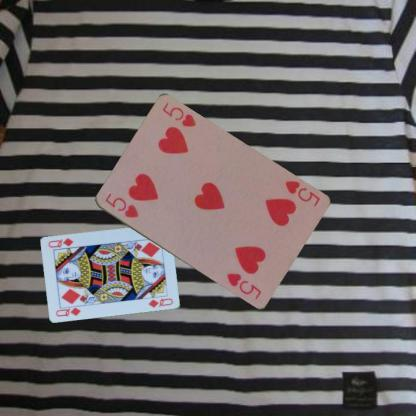5h: (282, 178, 322, 208), (102, 190, 140, 220)
Qd: (54, 302, 83, 318)
